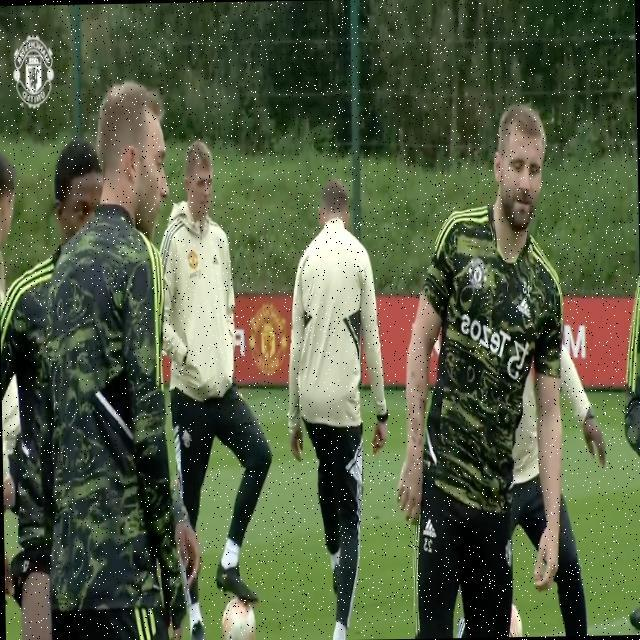Adidas: (516, 294, 532, 320), (422, 515, 437, 538), (180, 427, 192, 442)
